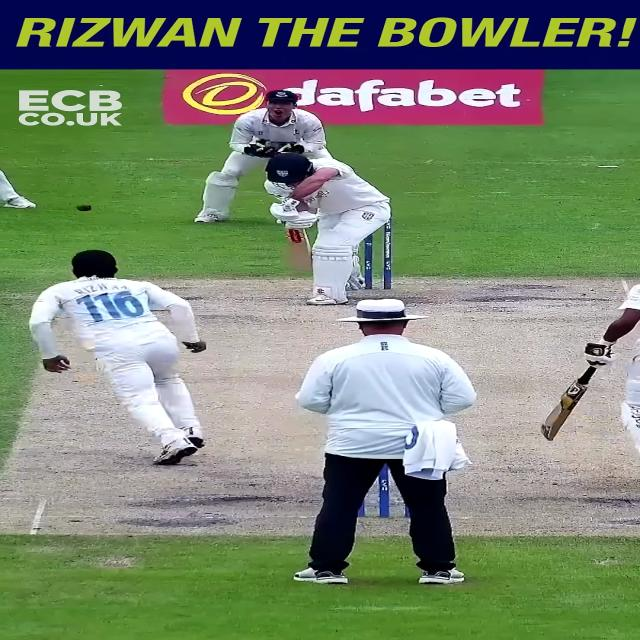cricketBall: (74, 204, 92, 212)
